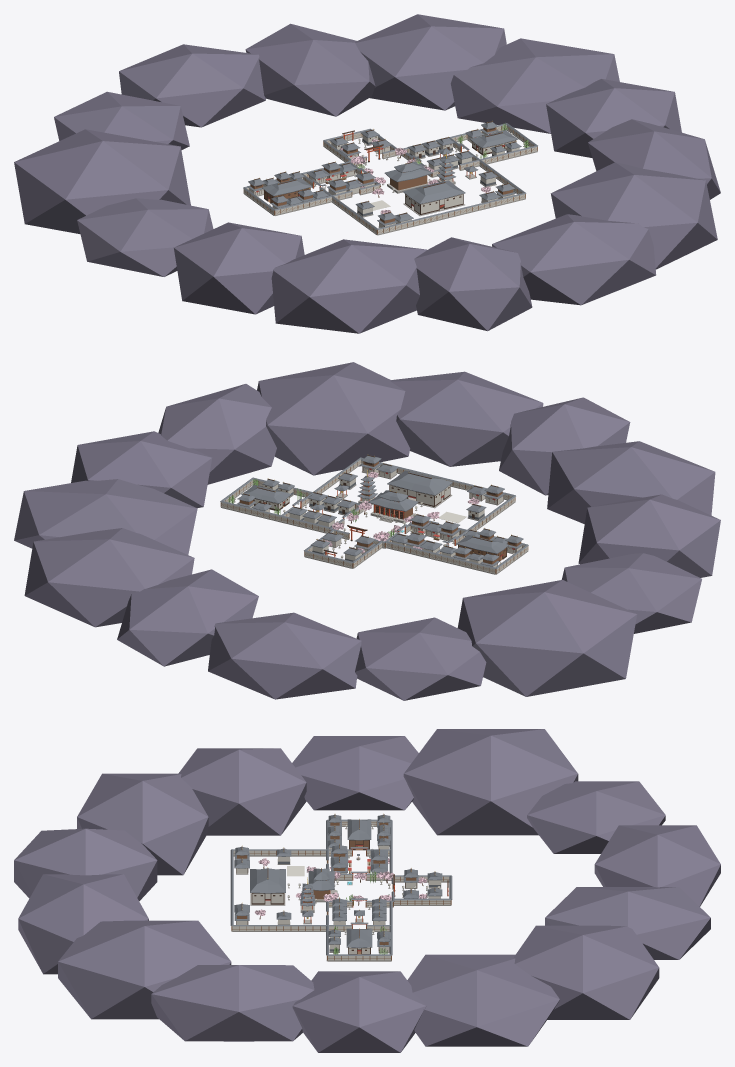
Rendered from Courtyard.glb.
The picture shows the model from 3 angles, top to bottom: view 1: azimuth 30°, elevation 25°; view 2: azimuth 150°, elevation 25°; view 3: azimuth 270°, elevation 25°; orthographic projection. The views are drawn at different scales.
Visible parts, largest first — view 1: Hills, RoofTile_0_-2, Plaster_0_-3, RoofTile_2_0, RoofTile_-3_0, RoofTile_0_-1; view 2: Hills, RoofTile_0_-2, RoofTile_-3_0, RoofTile_2_0, RoofTile_0_-1; view 3: Hills, RoofTile_0_-2, RoofTile_-3_0, RoofTile_2_0, RoofTile_0_-1, Plaster_1_-2.
Part boxes in pixels (x1,y1,x2,y2): Hills: (14, 14, 720, 333); RoofTile_0_-2: (402, 157, 465, 204); Plaster_0_-3: (378, 194, 525, 234); RoofTile_2_0: (450, 122, 518, 148); RoofTile_-3_0: (244, 172, 312, 196); RoofTile_0_-1: (384, 158, 452, 181); Hills: (14, 362, 720, 700); RoofTile_0_-2: (357, 470, 452, 499); RoofTile_-3_0: (435, 535, 508, 568); RoofTile_2_0: (220, 485, 291, 516); RoofTile_0_-1: (337, 490, 418, 514); Hills: (14, 729, 720, 1052); RoofTile_0_-2: (250, 868, 315, 906); RoofTile_-3_0: (347, 819, 392, 849); RoofTile_2_0: (346, 924, 392, 955); RoofTile_0_-1: (308, 868, 352, 911); Plaster_1_-2: (232, 919, 325, 930).
Size of the model in its own units: 358 by 51.63 by 356.
